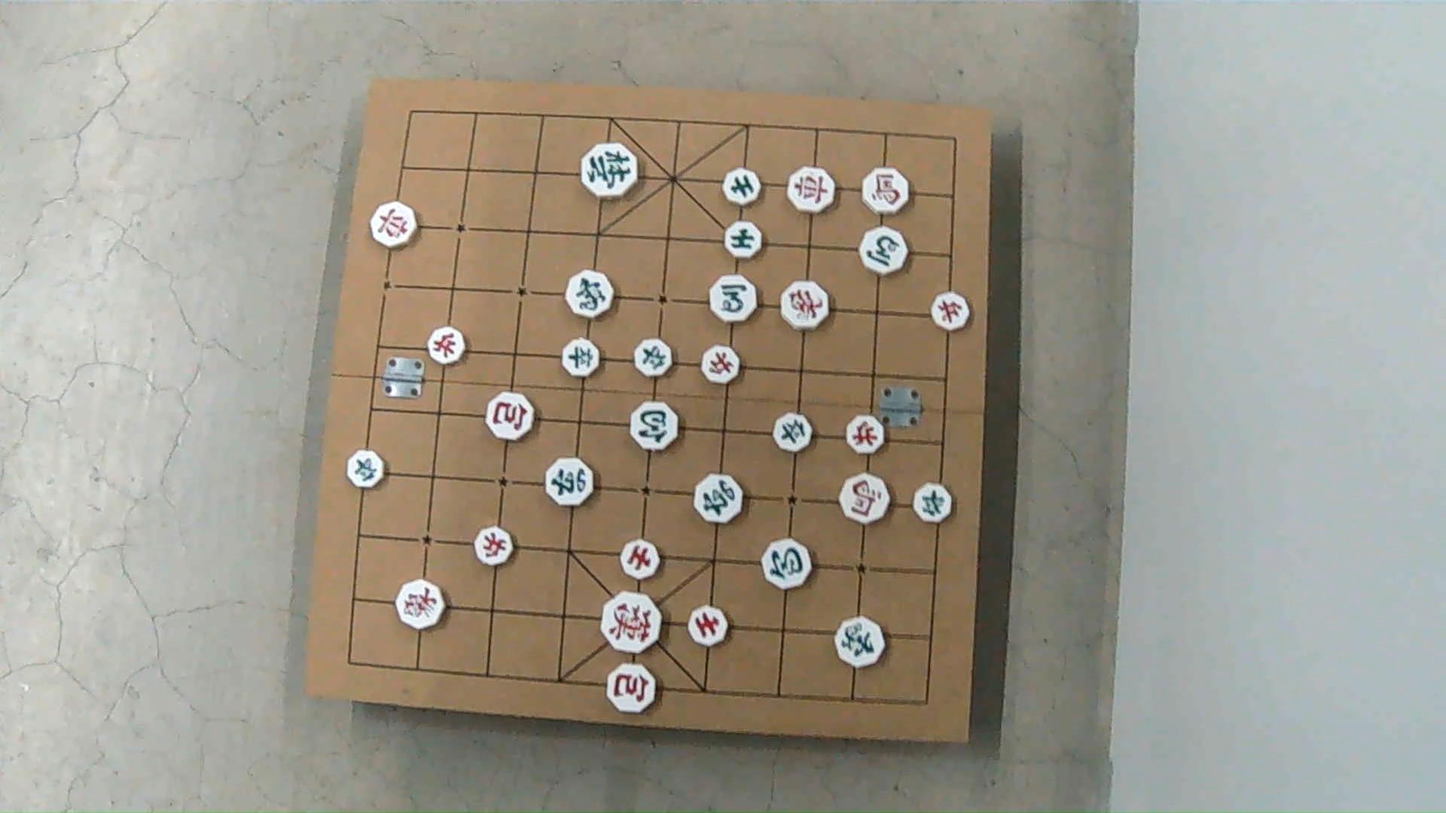cha_green: (694, 474, 744, 523), (545, 459, 593, 508)
cha_red: (788, 166, 836, 212), (370, 202, 415, 248)
jol_green: (776, 415, 815, 454), (915, 483, 954, 522), (634, 338, 672, 376), (346, 450, 384, 487), (564, 339, 601, 376)
jol_red: (474, 528, 514, 568), (933, 290, 972, 329), (847, 416, 886, 455), (701, 345, 740, 383), (429, 326, 465, 364)
ma_green: (859, 226, 908, 275), (709, 275, 757, 321)
ma_red: (841, 473, 891, 524), (862, 167, 909, 214)
po_green: (761, 538, 811, 589), (631, 401, 679, 451)
po_red: (608, 662, 657, 711), (484, 393, 532, 440)
sa_green: (724, 223, 764, 260), (721, 169, 760, 206)
sa_red: (688, 605, 729, 645), (621, 540, 660, 581)
sang_green: (834, 617, 886, 666), (566, 269, 614, 318)
sang_red: (780, 282, 829, 330), (397, 580, 445, 628)
wang_green: (583, 145, 640, 199)
wang_red: (602, 592, 663, 653)
